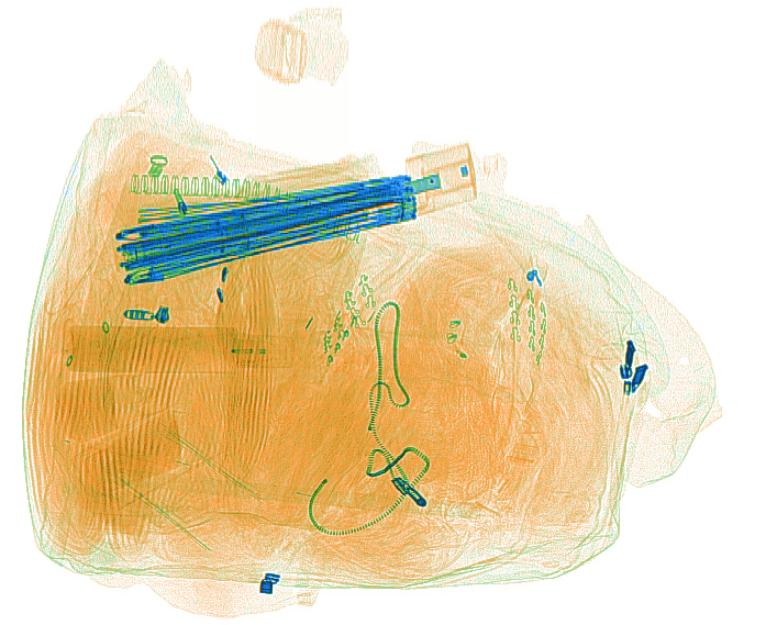plasticBottleWithaNozzle: (66, 324, 297, 373)
